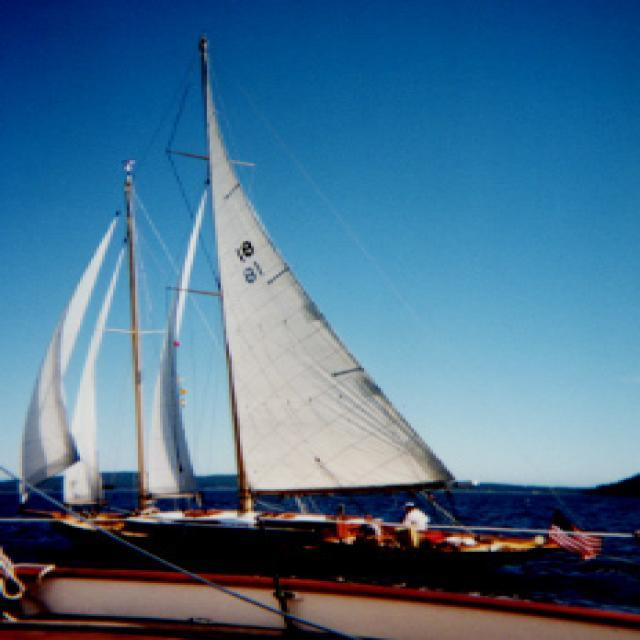Ship: (14, 37, 630, 606)
